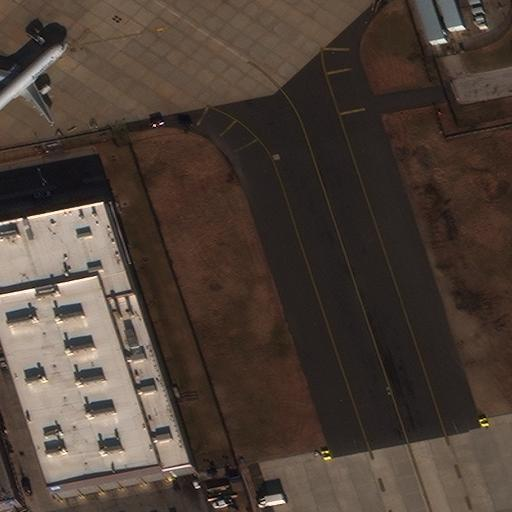Medium Civil Transport: (0, 41, 68, 127)
